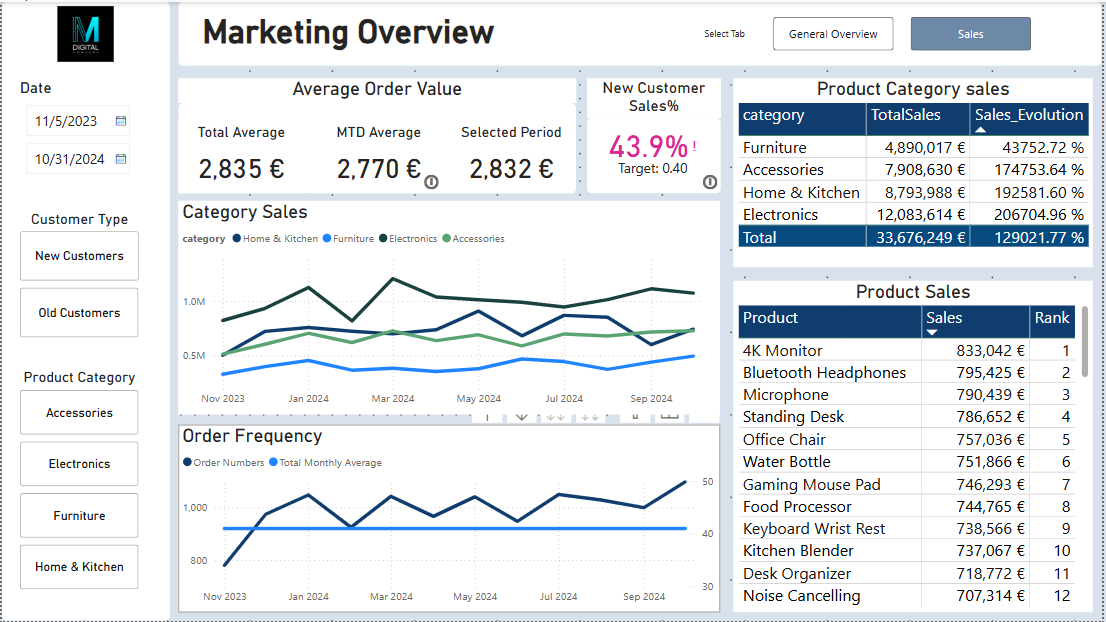

What the dashboard file says about the page in this screenshot:
{"tool":"powerbi","page":{"name":"Sales","canvas":[1280,720],"ordinal":1},"visuals":[{"type":"shape","box":[205.7,0,1074.3,74.3],"z":0},{"type":"shape","title":"Average Order Value","box":[205.7,88.6,462.9,134.3],"z":1000,"group":"g1"},{"type":"shape","title":"New Customer Sales%","box":[680.6,88.6,155.7,134.3],"z":1000},{"type":"shape","box":[0,0,195.7,720],"z":2000},{"type":"slicer","title":"Date","fields":{"Values":["orders6.order_date"]},"box":[15.7,88.6,148.6,124.3],"z":3000},{"type":"card","title":"MTD Average","fields":{"Values":["orders6.AOV_MTD"]},"box":[365.4,141.1,146.8,81.8],"z":4000,"group":"g1"},{"type":"lineChart","title":"Order Frequency","fields":{"Category":["orders6.order_date.Variation.Date Hierarchy.Year","orders6.order_date.Variation.Date Hierarchy.Month"],"Y":["CountNonNull(orders6.order_id)"],"Y2":["Min(orders6.Monthly_Average)"]},"box":[205.7,491.4,630,218.6],"z":4000},{"type":"textbox","box":[228.6,7.1,361.4,58.6],"z":5000},{"type":"card","title":"Total Average","fields":{"Values":["orders6.Total_AOV"]},"box":[205.7,141.1,146.8,81.8],"z":5000,"group":"g1"},{"type":"pageNavigator","box":[897.2,17.2,301.5,39.4],"z":6000},{"type":"card","title":"Selected Period","fields":{"Values":["orders6.AOV_Selected_Period"]},"box":[520.2,141.1,146.8,81.8],"z":6000,"group":"g1"},{"type":"tableEx","title":"Product Category sales","fields":{"Values":["products4.category","orders6.TotalSales","orders6.Sales_Evolution"]},"box":[851.4,88.6,418.6,220],"z":7000},{"type":"tableEx","title":"Product Sales","fields":{"Values":["products4.product_name","order_items7.Supplier_Sales","products4.Product_Rank1"]},"box":[851.4,324.3,418.6,385.7],"z":8000},{"type":"lineChart","title":"Category Sales","fields":{"Y":["order_items7.Supplier_Sales"],"Category":["orders6.order_date.Variation.Date Hierarchy.Year","orders6.order_date.Variation.Date Hierarchy.Month"],"Series":["products4.category"]},"box":[205.7,231.4,630,248.6],"z":9000},{"type":"image","box":[60,0,75.7,74.3],"z":10000},{"type":"group","id":"g1","title":"Group 1","box":[205.7,88.6,462.9,134.3],"z":11000},{"type":"advancedSlicerVisual","title":"Customer Type","fields":{"Values":["orders6.Customer_Type"]},"box":[15.7,237.1,148.6,158.6],"z":12000},{"type":"advancedSlicerVisual","title":"Product Category","fields":{"Values":["products4.category"]},"box":[15.7,421.4,148.6,270],"z":13000},{"type":"kpi","title":"New Customer Sales%","fields":{"Indicator":["order_items7.New_Customer_Sales_Ratio"],"TrendLine":["orders6.YearMonth"],"Goal":["all measures.New_customers_sales%_goal"]},"box":[696.6,141,123.9,74.3],"z":14000},{"type":"textbox","box":[817.2,25.8,59.1,22.2],"z":15000},{"type":"actionButton","box":[811.1,196.2,25,26.4],"z":15001},{"type":"actionButton","box":[487,196.2,25,26.4],"z":15002}]}

Visuals, with their boxes in screenshot pixels (x1, y1, x2, y2), scaled from the page's 1280x720 canvas onto the 1106x622 screenshot:
shape: <box>178,0,1105,64</box>
"Average Order Value" shape: <box>178,77,578,193</box>
"New Customer Sales%" shape: <box>588,77,723,193</box>
shape: <box>0,0,169,621</box>
"Date" slicer: <box>14,77,142,184</box>
"MTD Average" card: <box>316,122,443,193</box>
"Order Frequency" lineChart: <box>178,425,722,613</box>
textbox: <box>198,6,510,57</box>
"Total Average" card: <box>178,122,305,193</box>
pageNavigator: <box>775,15,1036,49</box>
"Selected Period" card: <box>449,122,576,193</box>
"Product Category sales" tableEx: <box>736,77,1097,267</box>
"Product Sales" tableEx: <box>736,280,1097,613</box>
"Category Sales" lineChart: <box>178,200,722,415</box>
image: <box>52,0,117,64</box>
"Group 1" group: <box>178,77,578,193</box>
"Customer Type" advancedSlicerVisual: <box>14,205,142,342</box>
"Product Category" advancedSlicerVisual: <box>14,364,142,597</box>
"New Customer Sales%" kpi: <box>602,122,709,186</box>
textbox: <box>706,22,757,41</box>
actionButton: <box>701,169,722,192</box>
actionButton: <box>421,169,442,192</box>
